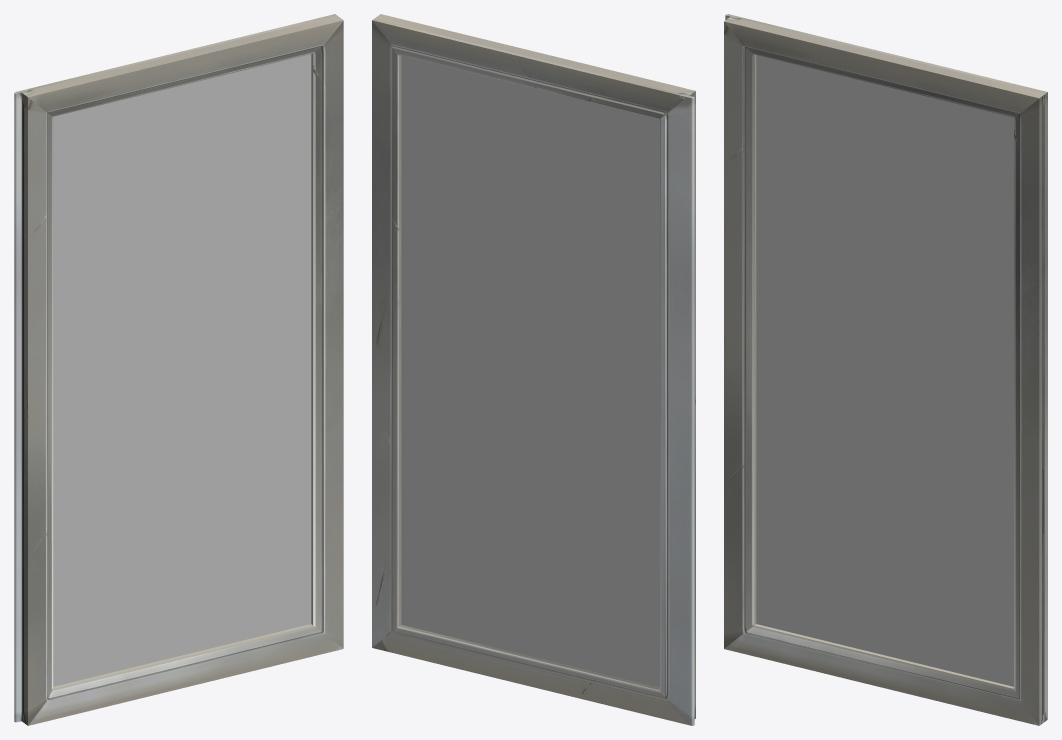
The model's file is RightWindow.fbx.
The picture shows the model from 3 angles, left to right: view 1: azimuth 30°, elevation 25°; view 2: azimuth 150°, elevation 25°; view 3: azimuth 330°, elevation 25°; orthographic projection.
Parts seen in each view (by area): view 1: RightWindow; view 2: RightWindow; view 3: RightWindow.
Boxes of the visible parts, left/top/right/bottom form: RightWindow: left=14, top=14, right=343, bottom=725; RightWindow: left=372, top=14, right=695, bottom=725; RightWindow: left=724, top=14, right=1047, bottom=725.
Bounding box in the file's own units: 67.41 × 126 × 3.46.
2 materials, 1 textured.
